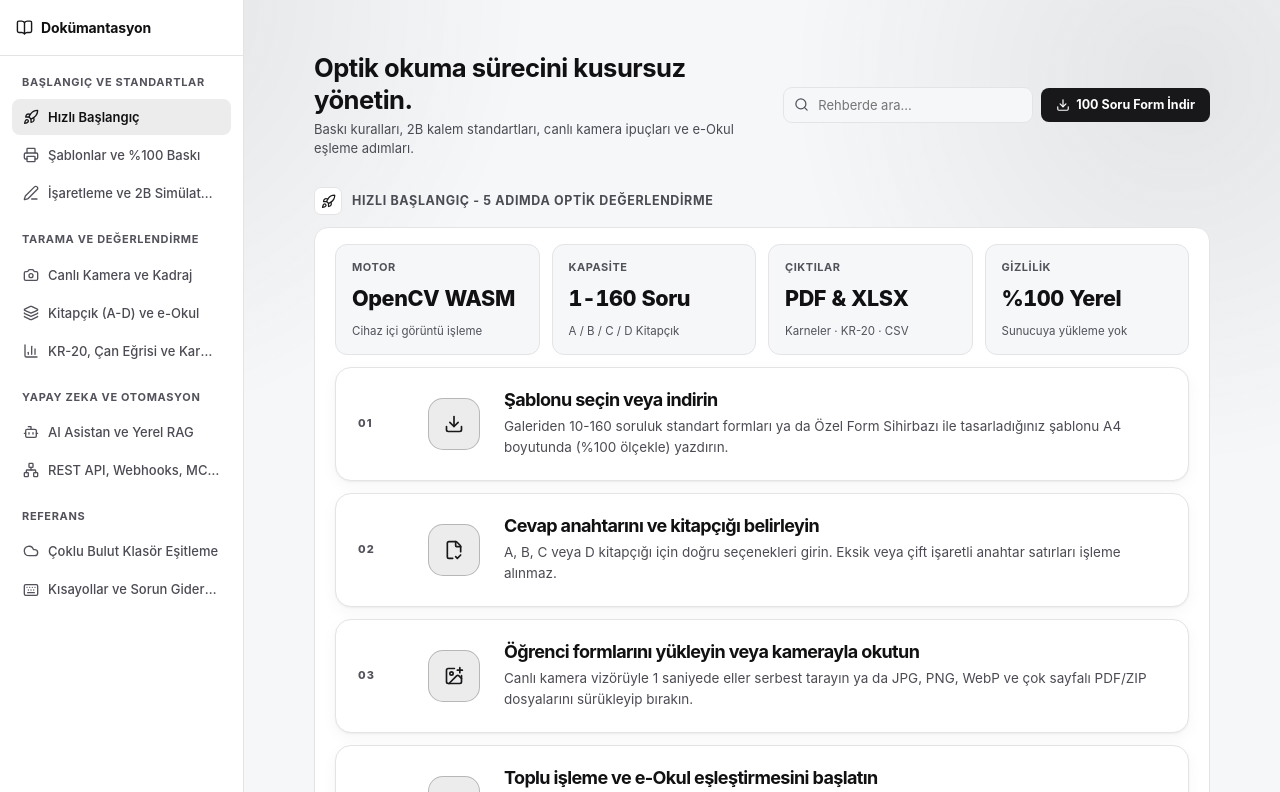
DesktopShell, 2nd-Sidebar SettingsPage, AboutPage, GuidePage & Exit Confirmation › renders GuidePage (Documentation) with 2nd sidebar split-layout and instant search
This screenshot has width=1280, height=792.
Click the button "İşaretleme ve 2B Simülatörü": (122, 193) [12, 175, 231, 211]
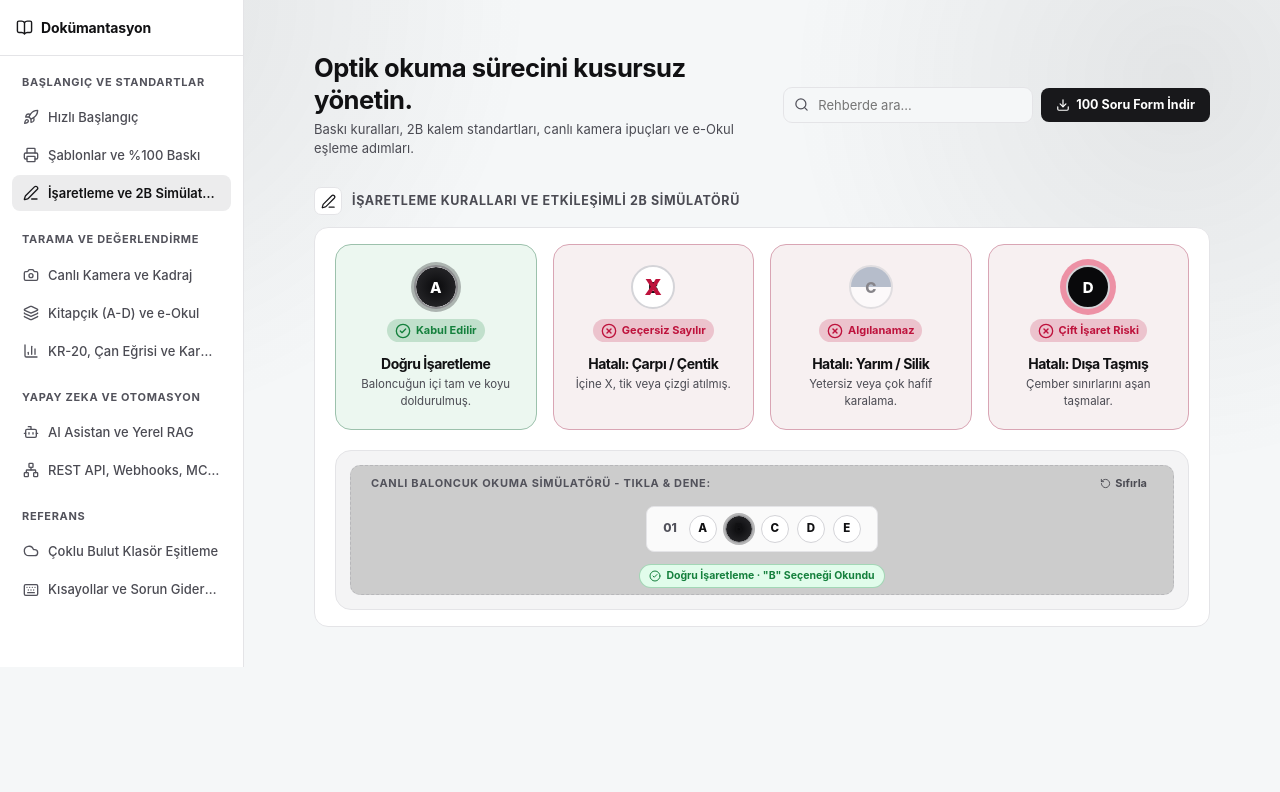
Expected: the text "Canlı Baloncuk Okuma Simülatörü - Tıkla & Dene:" is shown, [371, 475, 711, 492]
